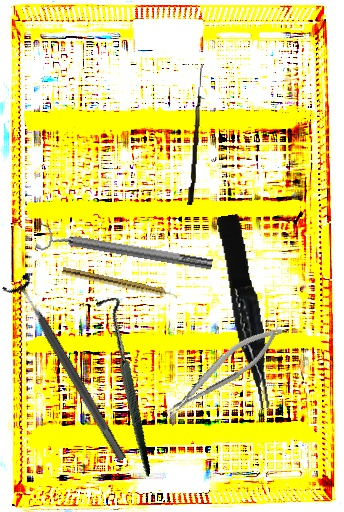Fixation Ring: (0, 272, 137, 468), (34, 220, 215, 281)
Handpiece: (61, 266, 179, 302)
Hook Surgical: (54, 292, 194, 478), (187, 64, 203, 206)
Needle Holder: (156, 317, 291, 424)
Tissue Forceps: (216, 212, 275, 413)
